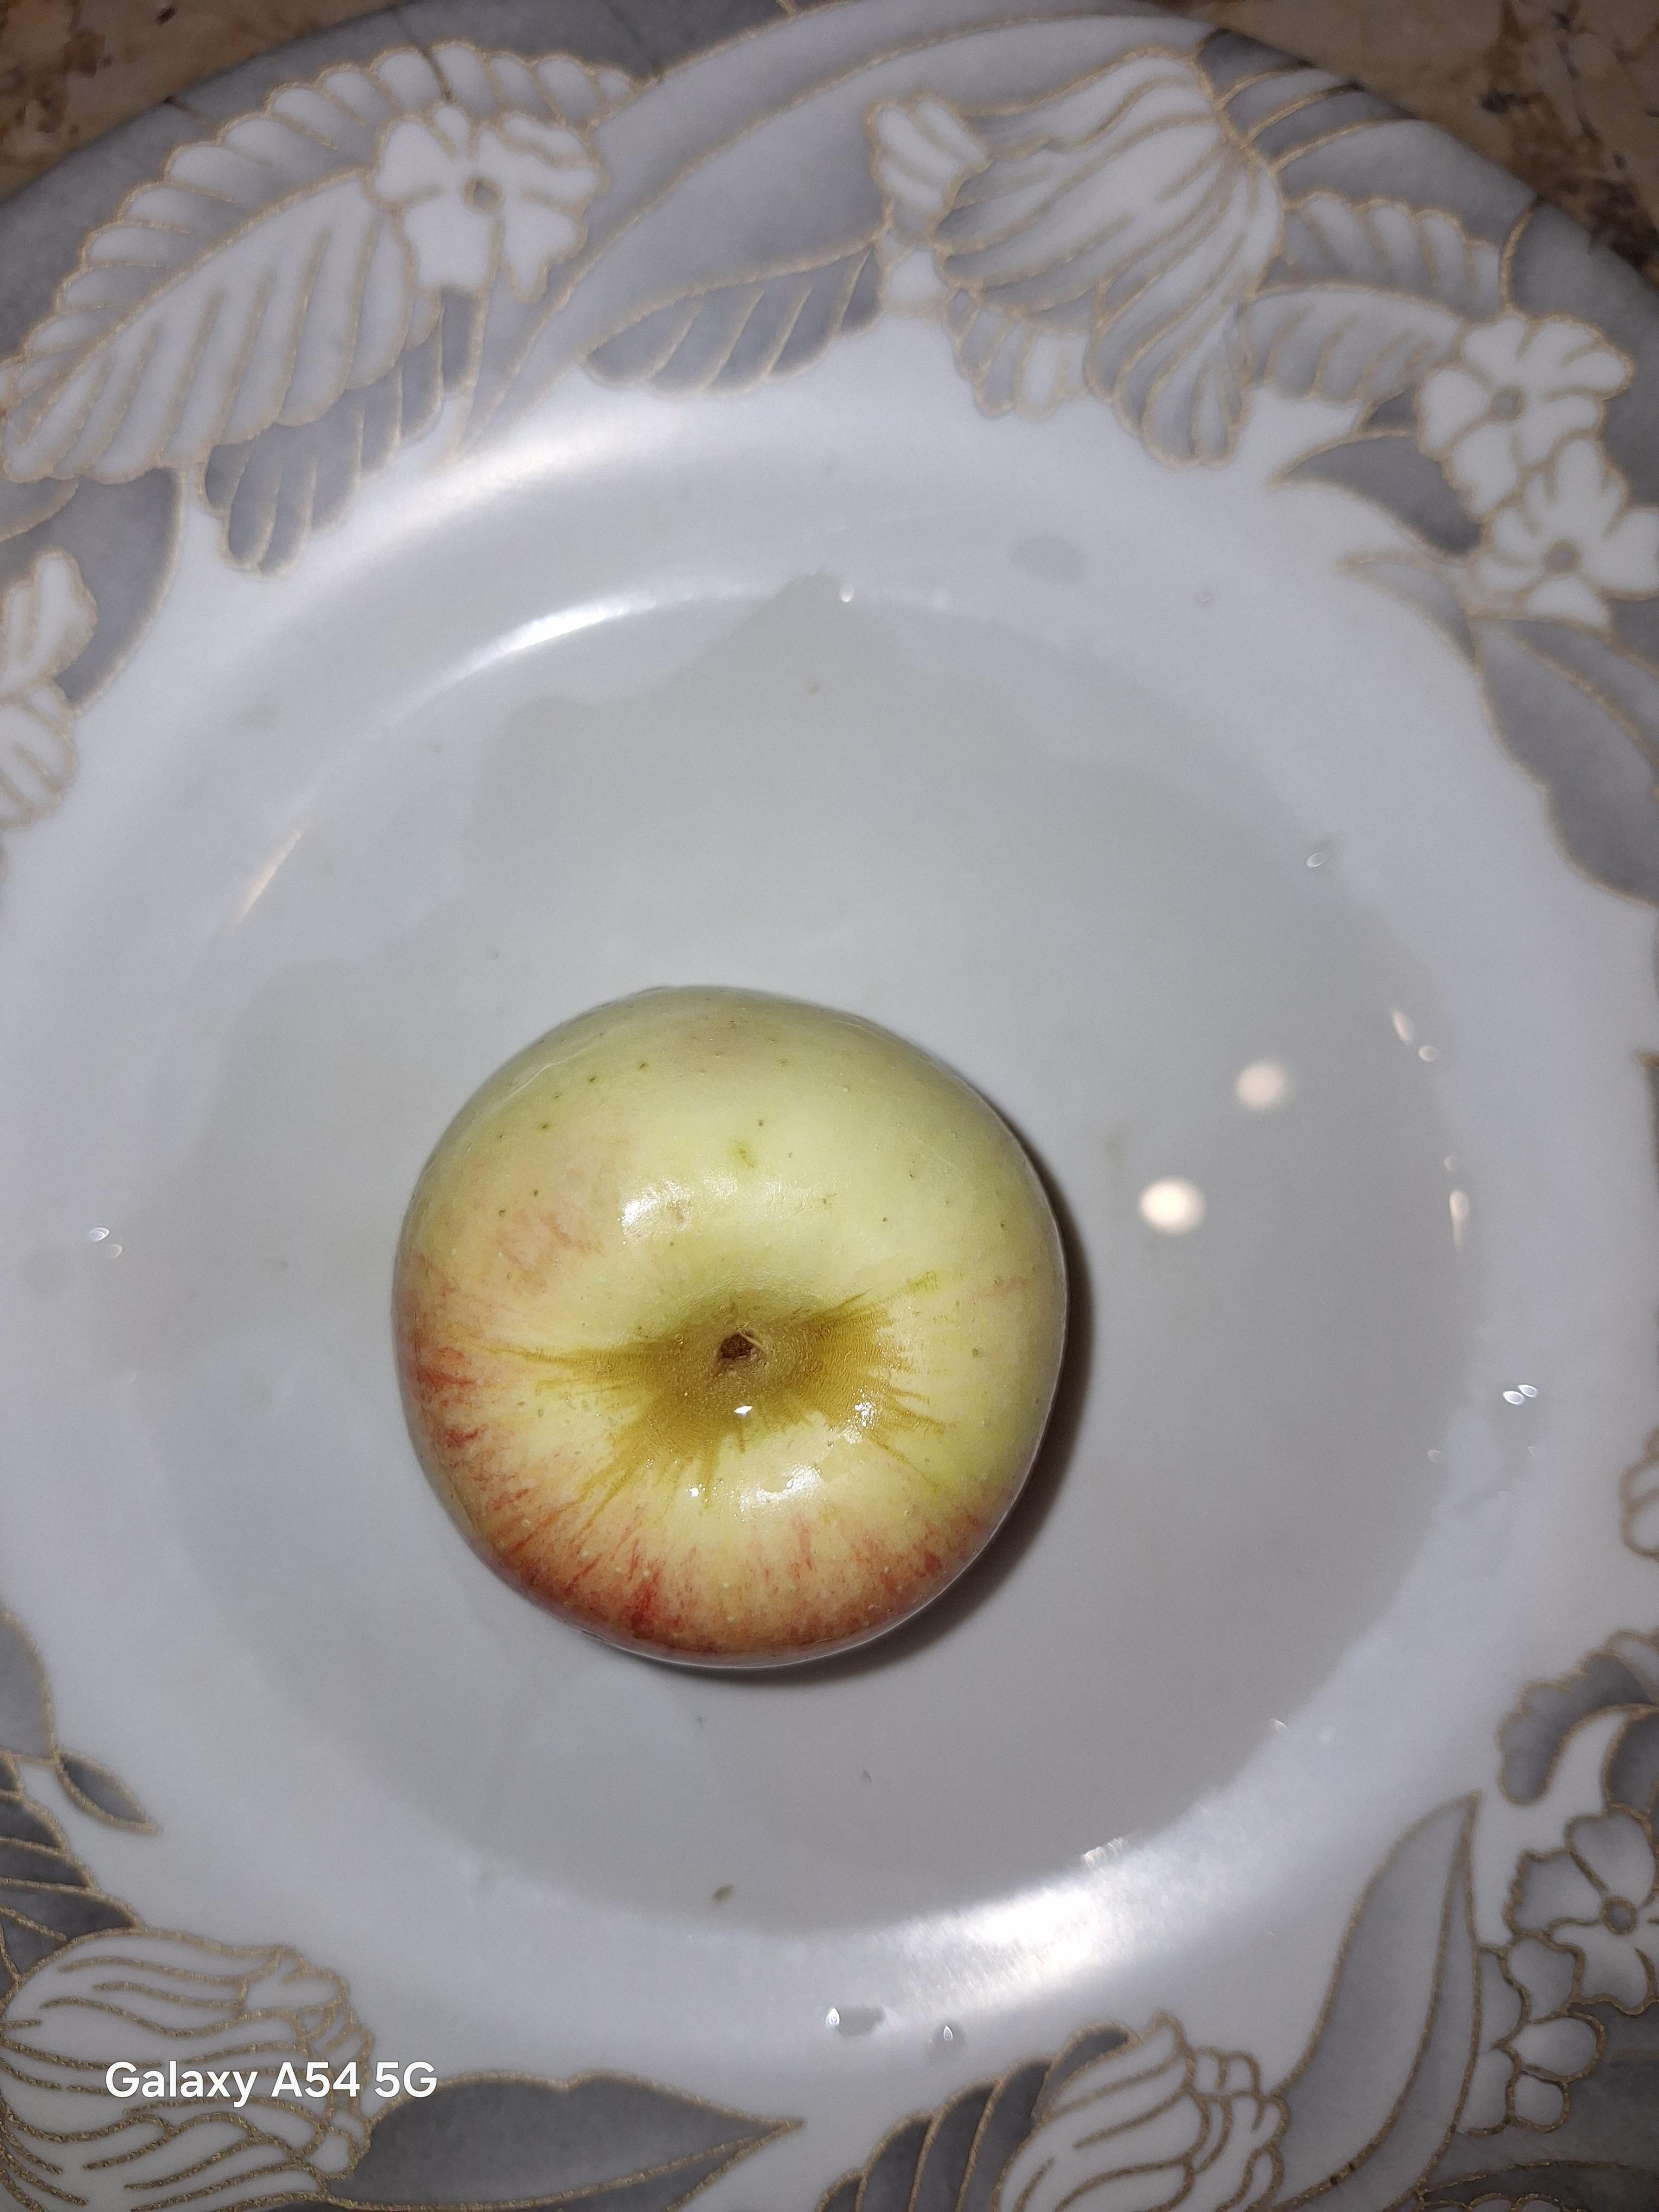non-mango: (396, 982, 1112, 1686)
